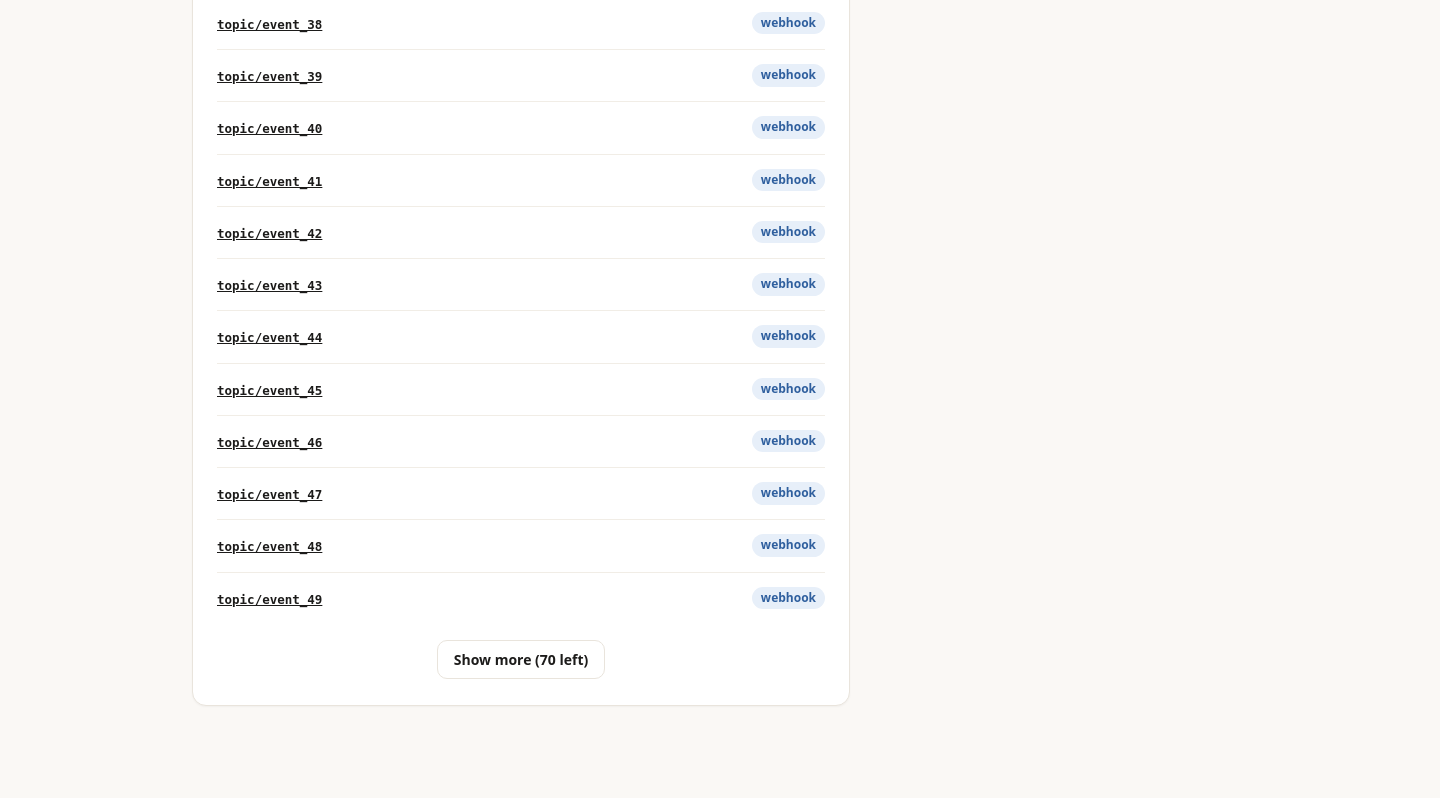
Triggers tab › loads more events page by page
The width and height of the screenshot is (1440, 798).
(page scrolled)
Click the button "Show more (70 left)". click: (521, 659)
box: left=437, top=640, right=605, bottom=679
(page scrolled)
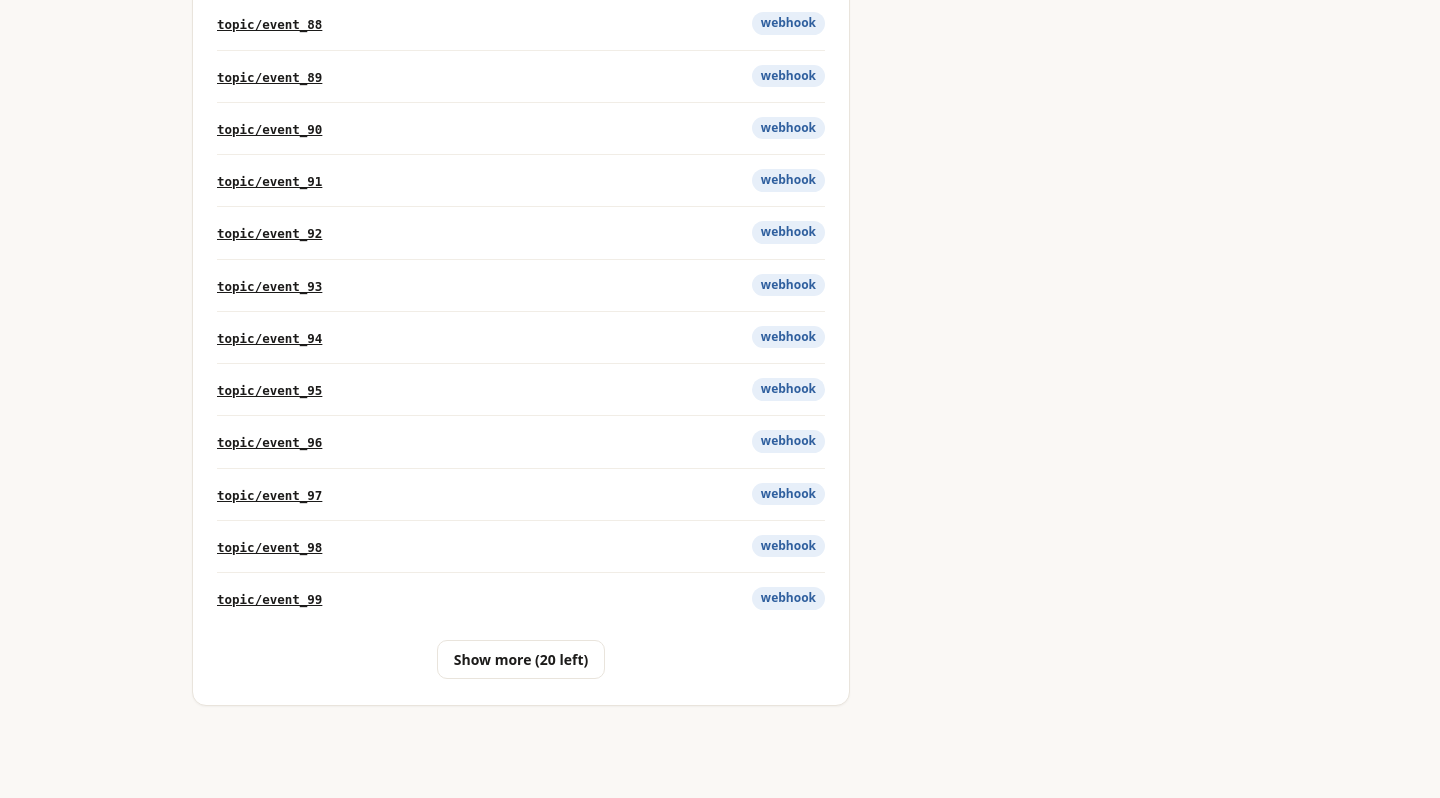
Click the button "Show more (20 left)". click: (521, 660)
box: left=437, top=640, right=605, bottom=679
(page scrolled)
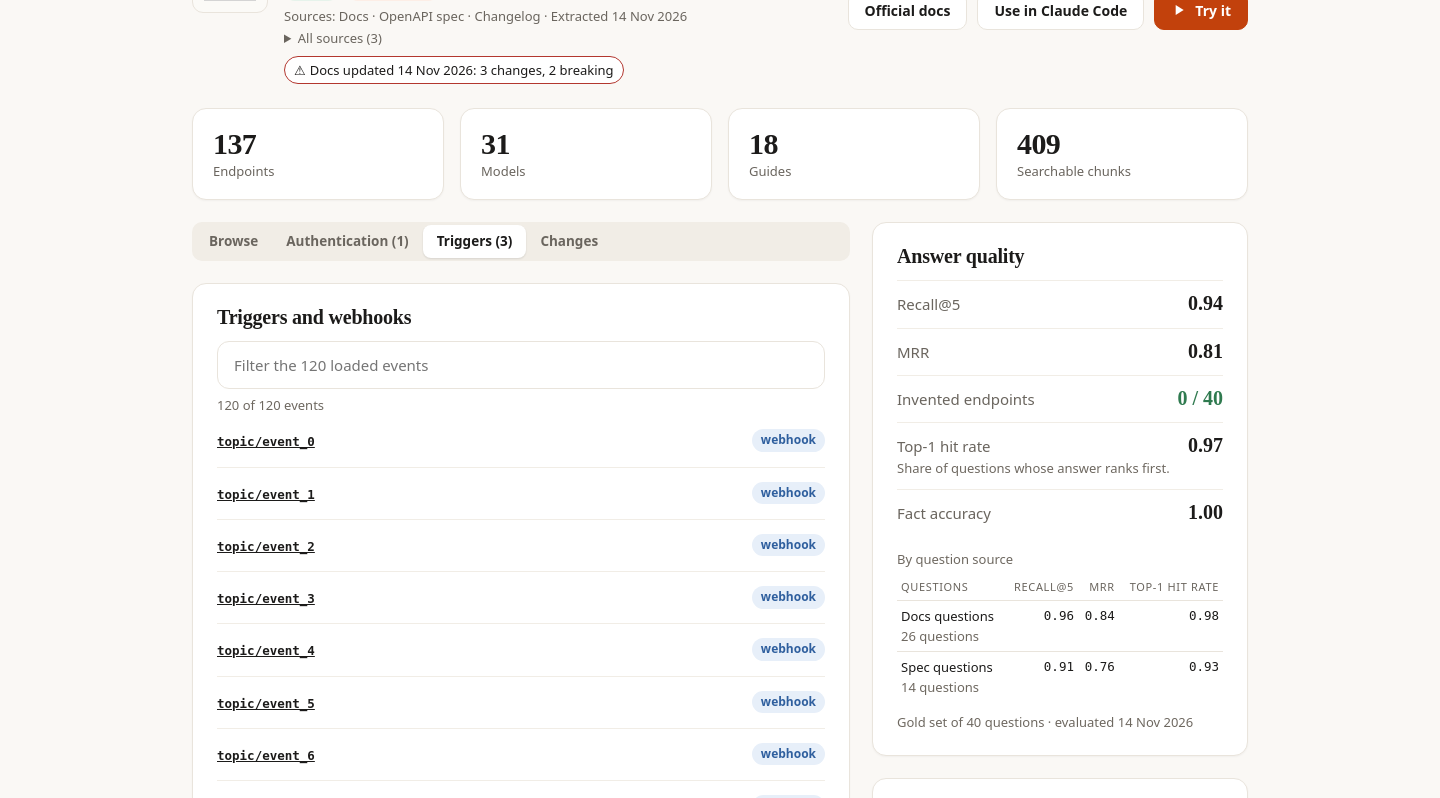
Check: the text "120 of 120 events" is shown, box left=217, top=396, right=324, bottom=414
Check: the button "Show more" is gone
